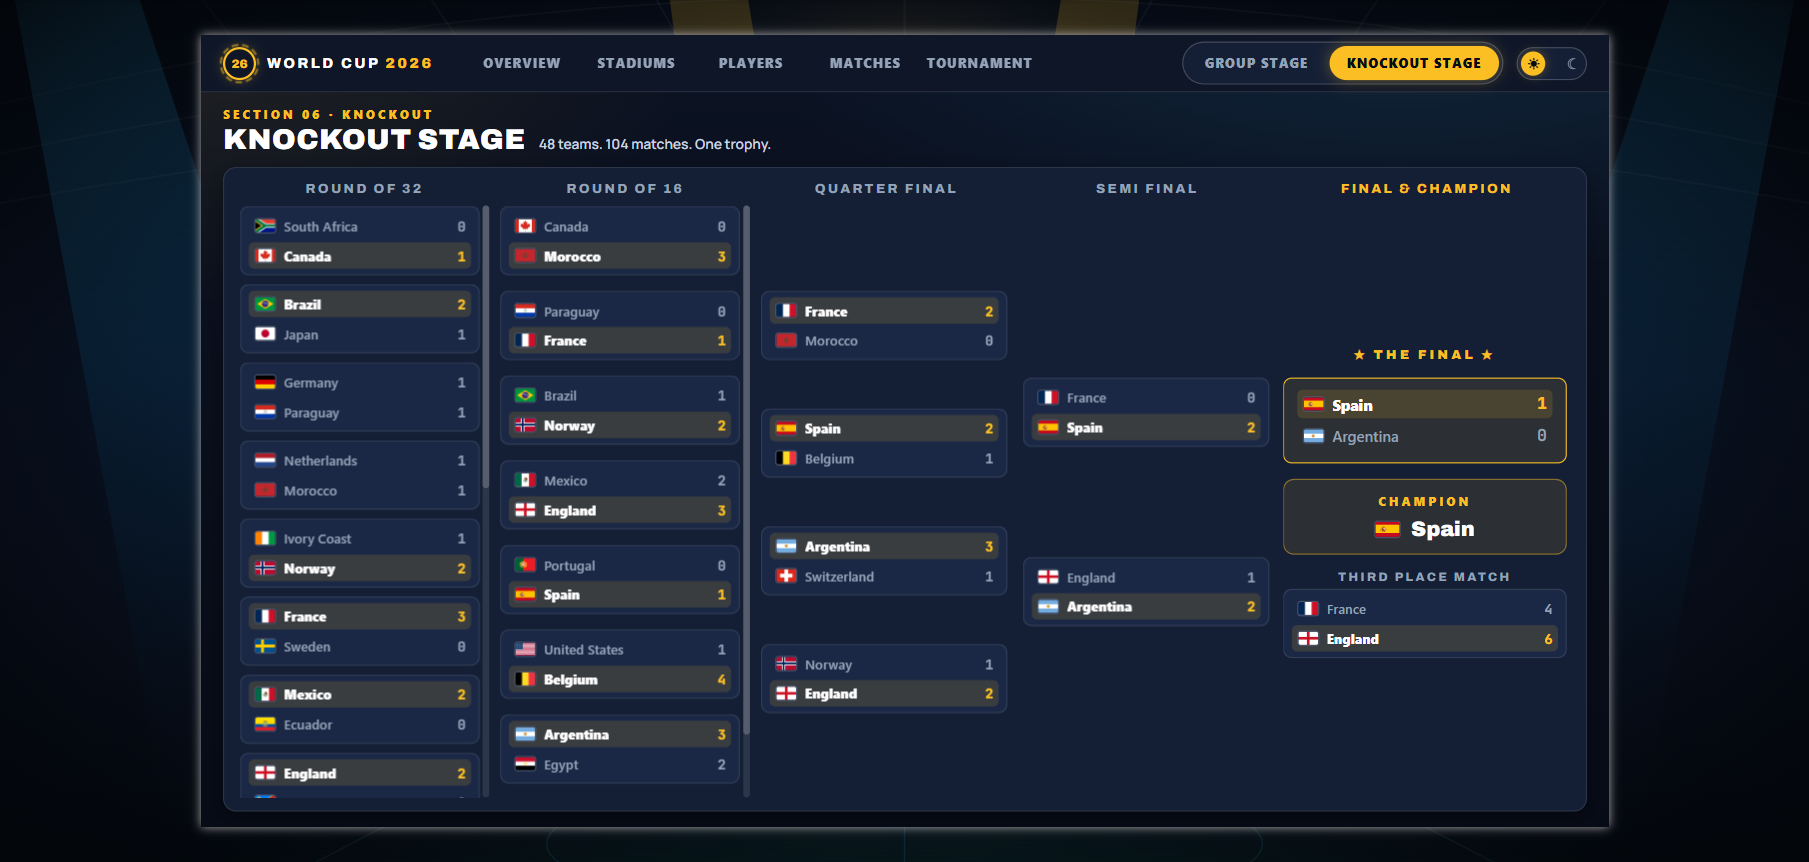

What the dashboard file says about the page in this screenshot:
{"tool":"powerbi","page":{"name":"Tournament Page","canvas":[1280,720],"ordinal":5},"visuals":[{"type":"htmlContent443BE3AD55E043BF878BED274D3A6855","fields":{"content":["HTML Visuals.Tournament_Page"]},"box":[0,0,1280,720],"z":0},{"type":"actionButton","title":"Matches","box":[552,0,104,51],"z":2},{"type":"actionButton","title":"Players","box":[448,0,104,51],"z":3},{"type":"actionButton","title":"Stadiums","box":[344,0,104,51],"z":4},{"type":"actionButton","title":"Overview","box":[240,0,104,51],"z":5},{"type":"advancedSlicerVisual","title":"Group Slicer","fields":{"Values":["dim_group.group"]},"box":[738,72,522,30],"z":6}]}

Visuals, with their boxes on the page's 1280x720 design canvas (x1, y1, x2, y2). These are canvas units, not pixel positions in the 1809x862 screenshot, which may show the page scaled, cropped or inside an application window:
htmlContent443BE3AD55E043BF878BED274D3A6855 - HTML Visuals.Tournament_Page: crop(0, 0, 1280, 720)
"Matches" actionButton: crop(552, 0, 656, 51)
"Players" actionButton: crop(448, 0, 552, 51)
"Stadiums" actionButton: crop(344, 0, 448, 51)
"Overview" actionButton: crop(240, 0, 344, 51)
"Group Slicer" advancedSlicerVisual: crop(738, 72, 1260, 102)
